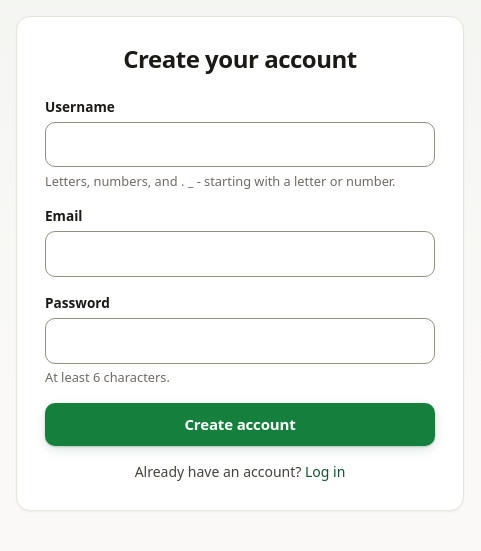
Test case: the register form › says what is wrong without asking the server
Type "ab" into the field labelled "Username" at [240, 145], box [45, 122, 435, 167]
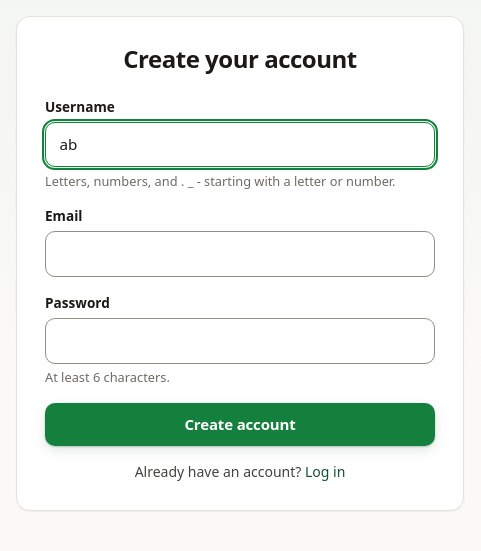
Type "not-an-email" into the field labelled "Email" at [240, 254], box [45, 231, 435, 277]
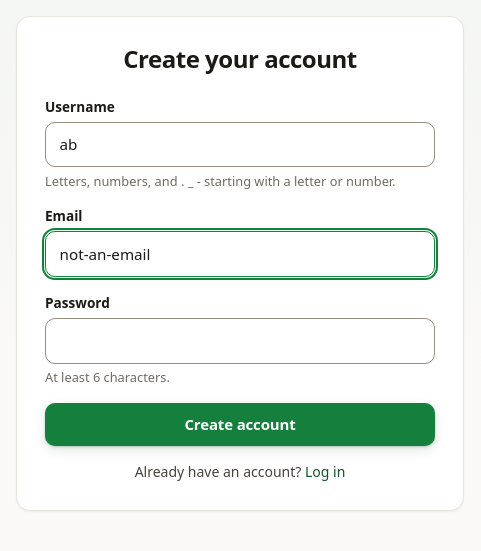
Type "123" into the password field labelled "Password" at [240, 341], box [45, 318, 435, 364]
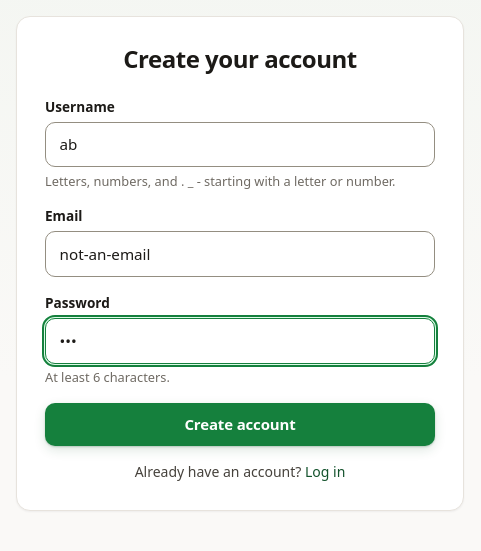
Click the button "Create account" at [240, 424], box [45, 403, 435, 446]
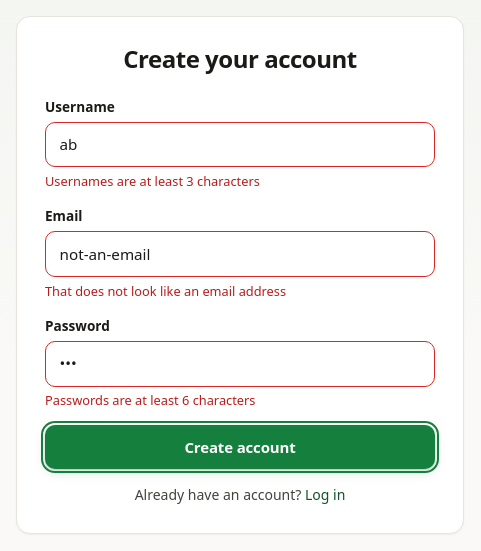
Expected: the text "Usernames are at least 3 characters" is shown, [45, 172, 260, 190]
Expected: the text "That does not look like an email address" is shown, [45, 282, 286, 300]
Expected: the text "Passwords are at least 6 characters" is shown, [45, 391, 256, 409]
